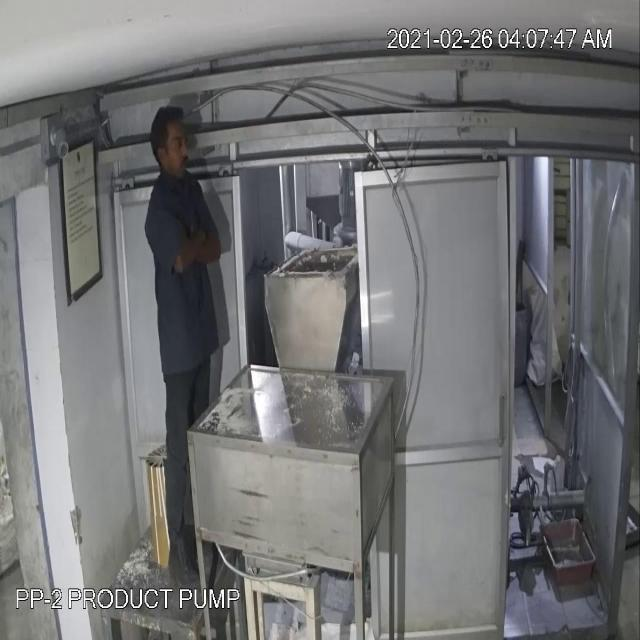no hat: (146, 101, 190, 155)
